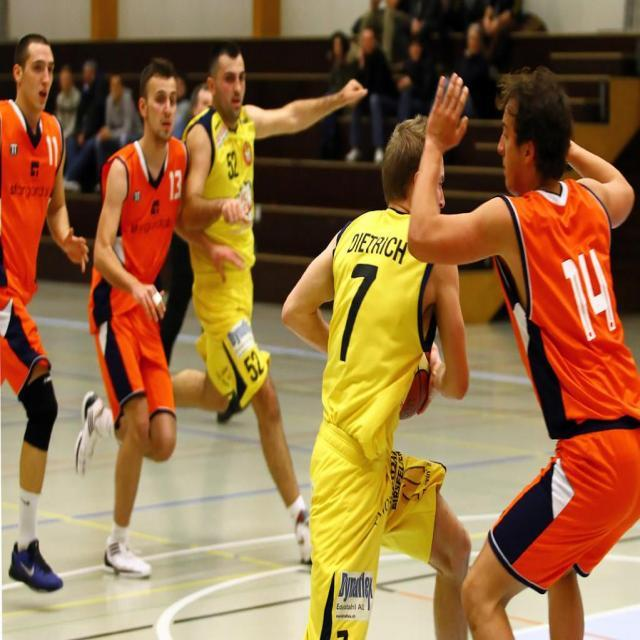rim: (401, 338, 437, 418)
